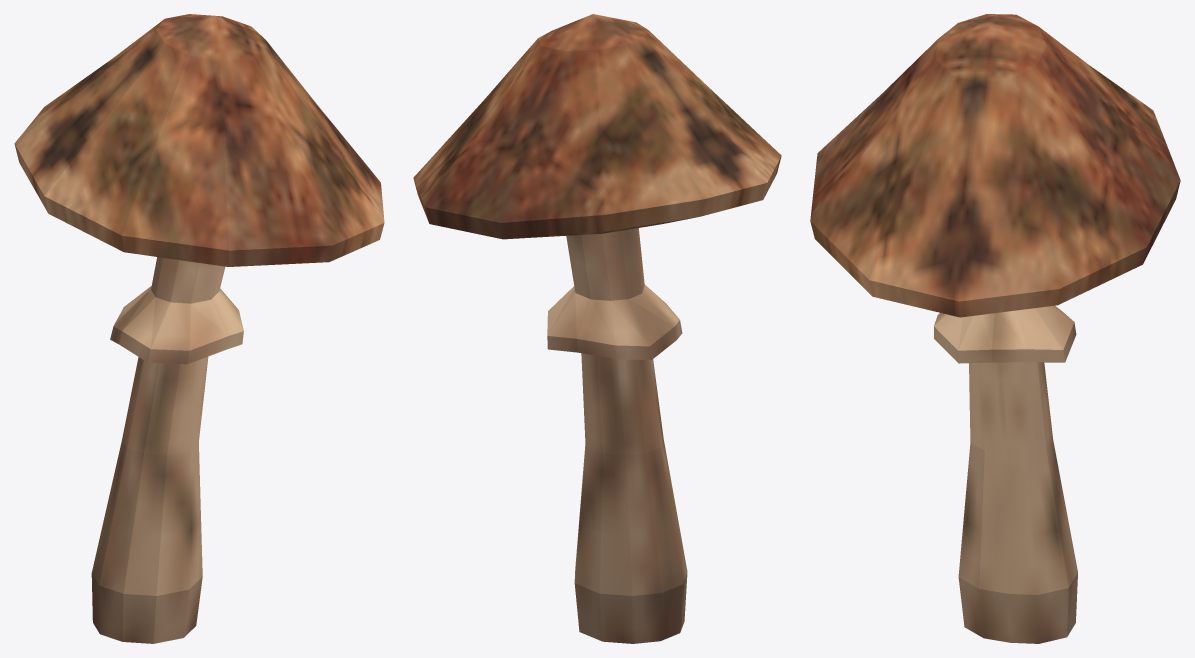
File: Cogumelo-05-Alto.glb
The picture shows the model from 3 angles, left to right: view 1: azimuth 30°, elevation 25°; view 2: azimuth 150°, elevation 25°; view 3: azimuth 270°, elevation 25°; orthographic projection. The views are drawn at different scales.
Parts seen in each view (by area): view 1: Alto; view 2: Alto; view 3: Alto.
Part boxes in pixels (x1,y1,x2,y2): Alto: (14,14,384,643); Alto: (413,14,781,643); Alto: (810,14,1180,643).
Size of the model in its own units: 0.1542 by 0.272 by 0.1464.
1 material, 1 textured.
